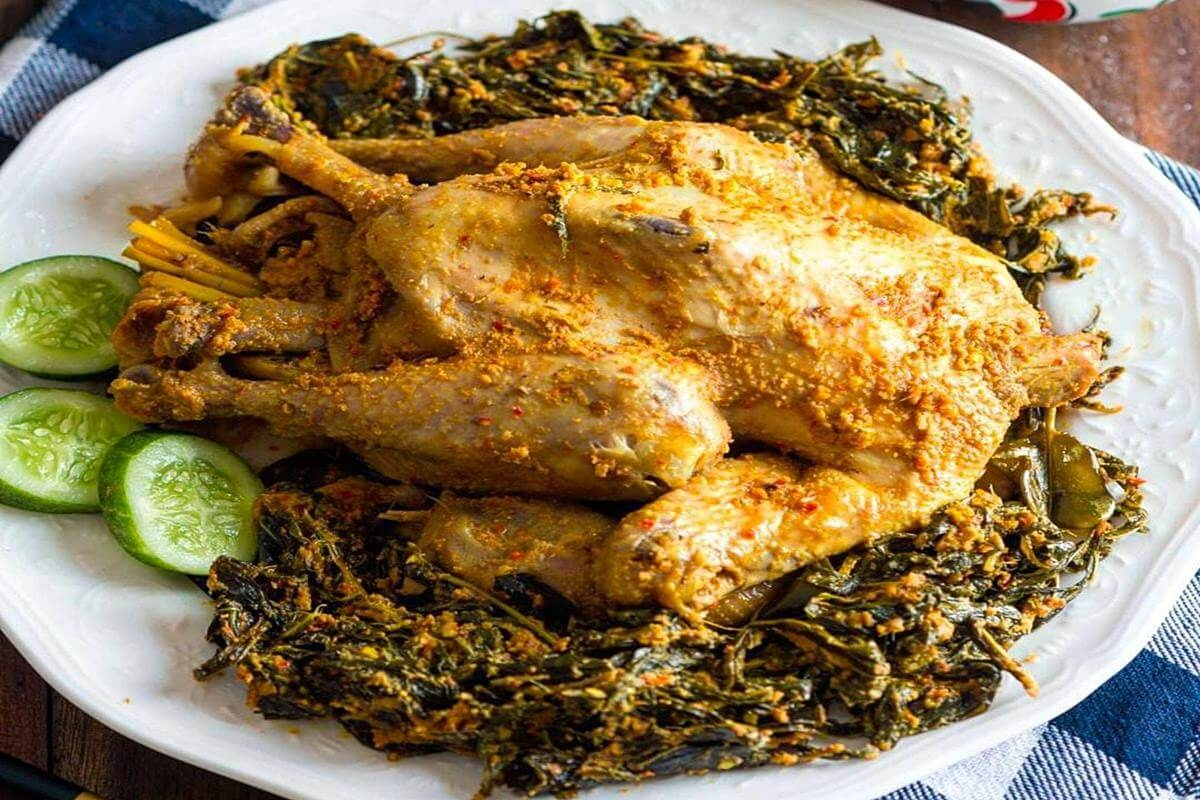ayam_betutu: (116, 117, 1102, 615)
